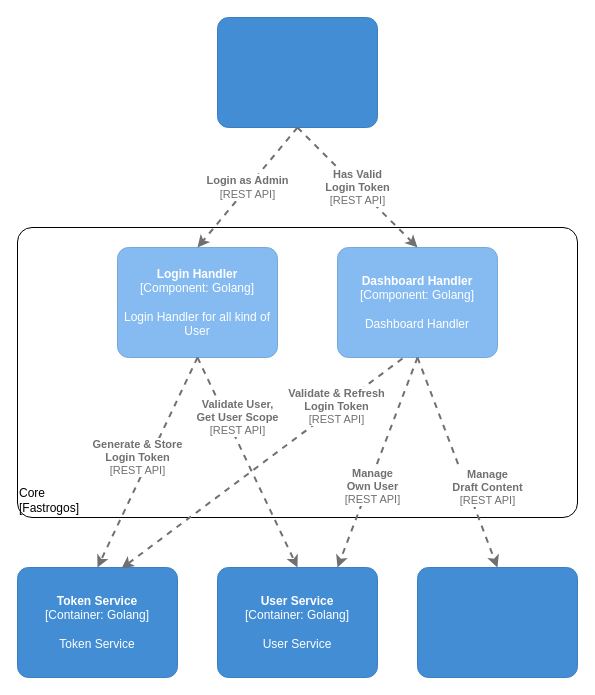
The diagram is 595 pixels wide and 695 high, and some of its shapes have lost their labels. The shapes that lost their labels are listed below. From the top down, each one's centre as x and y in pixels, then its label:
At (x=297, y=72): "Author Dashboard Web App [Container: Golang, HTML, CSS, JS] GUI for Author".
At (x=497, y=622): "Content Service [Container: technology] Content Service".
